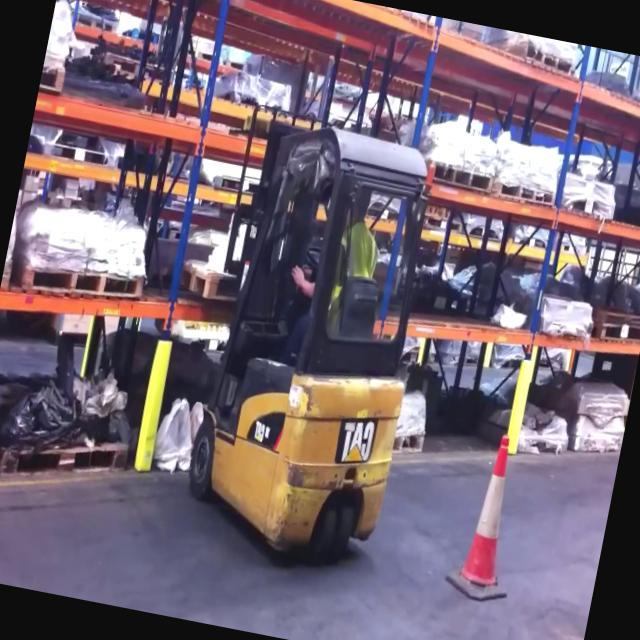driver: (286, 172, 399, 342)
forklift: (164, 104, 464, 592)
